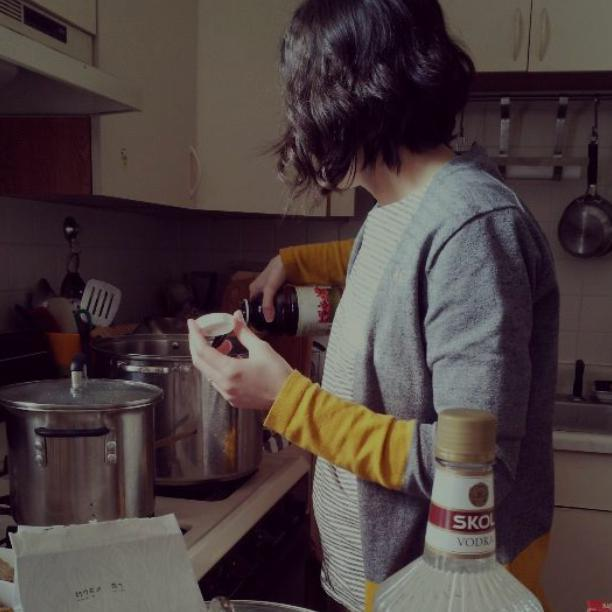Lavaplatos: (430, 339, 612, 450)
